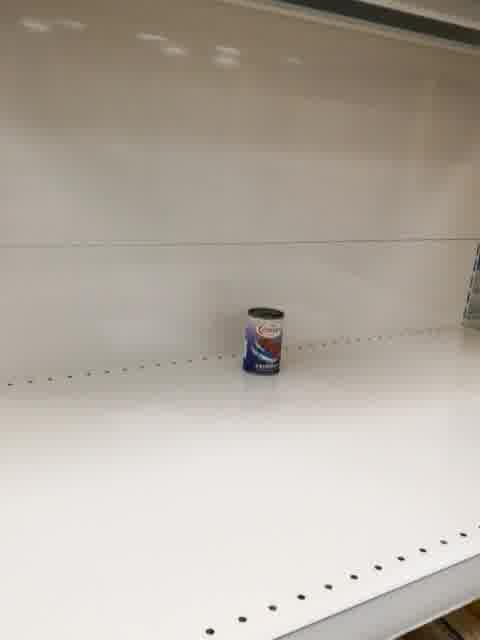sardine: (242, 307, 286, 377)
